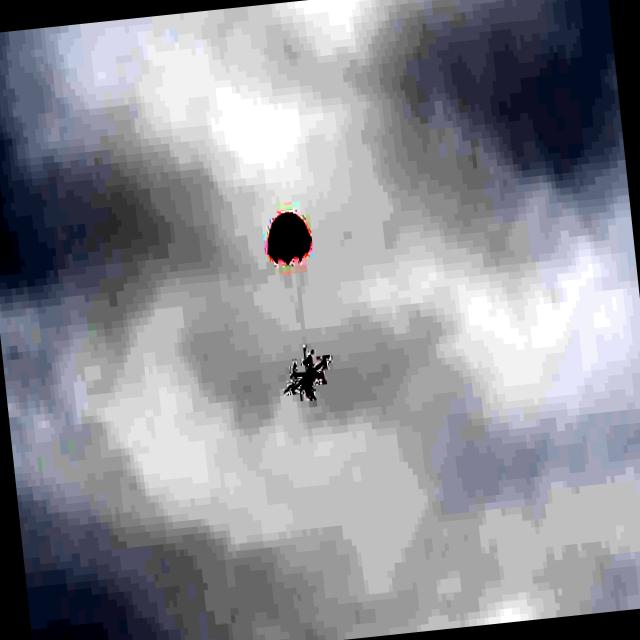drone: (280, 352, 334, 403)
